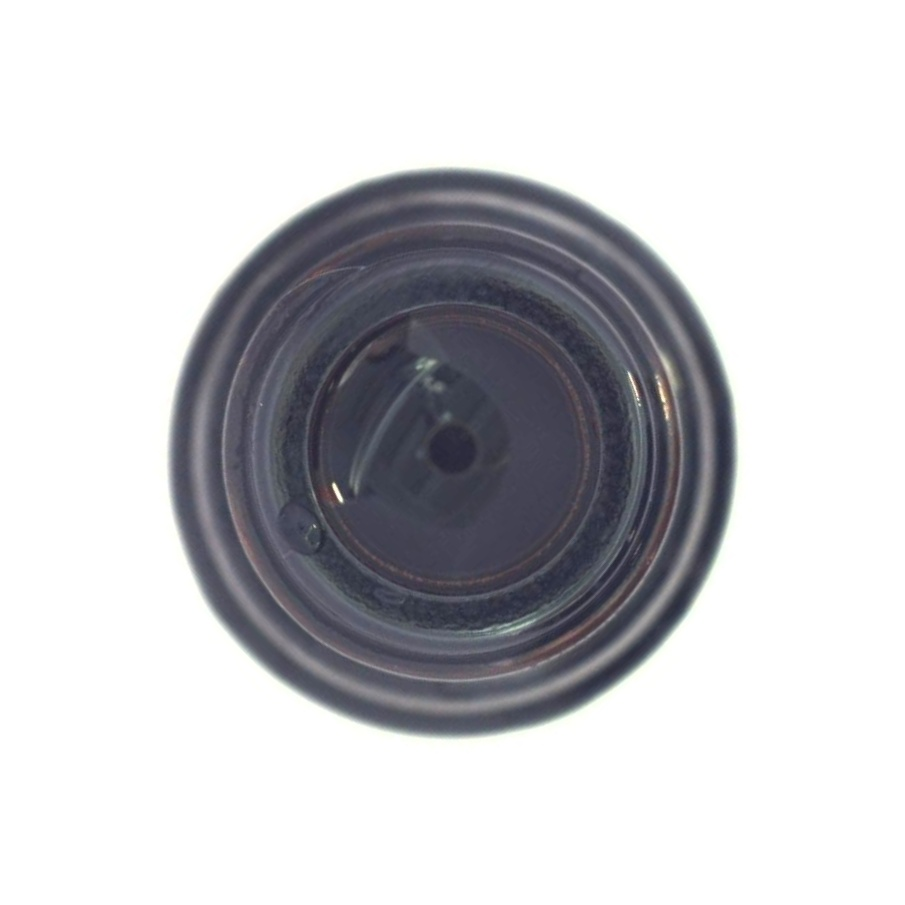bad-contamination: (44, 43, 864, 859)
